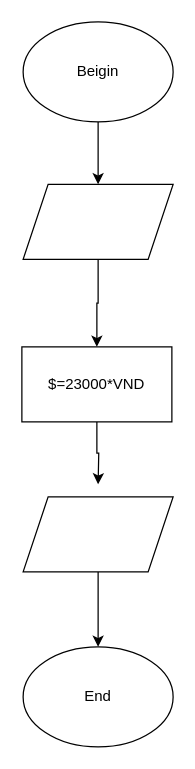
Image size: 195x769. Some labels were removed from this diagram. The shapes that lost their labels are listed below. From the top down, each one's box as (x1, y1, x2, y2) in pixels, then its label:
(22, 183, 173, 259): Input $,VND
(22, 496, 173, 572): Output $
